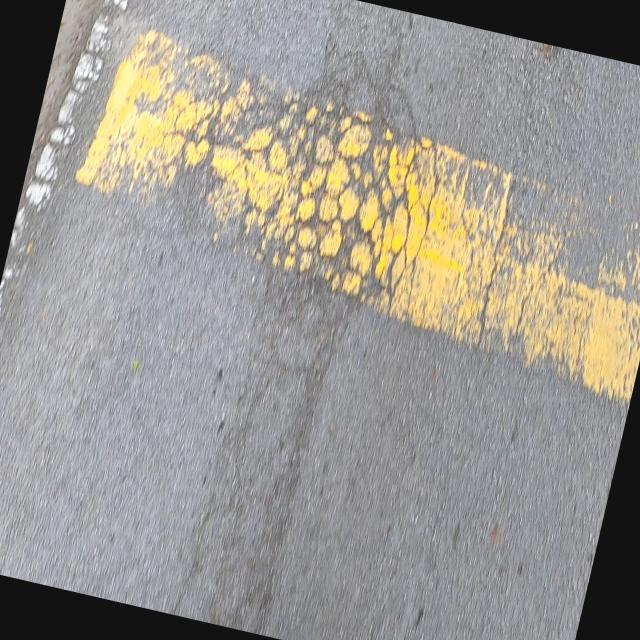Retak-Buaya: (162, 55, 439, 636)
Retak-Memanjang: (474, 168, 521, 351)
